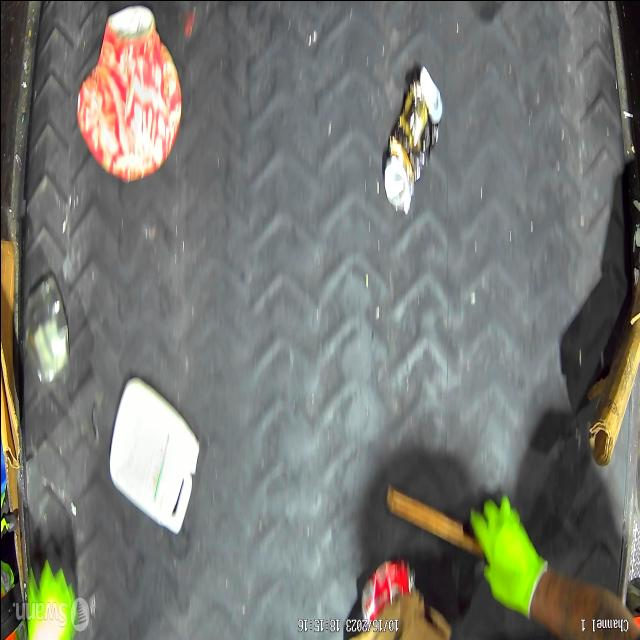can: (76, 5, 180, 184), (382, 64, 442, 214), (22, 273, 68, 381), (360, 558, 414, 620)
milk_jug: (107, 378, 199, 533)
